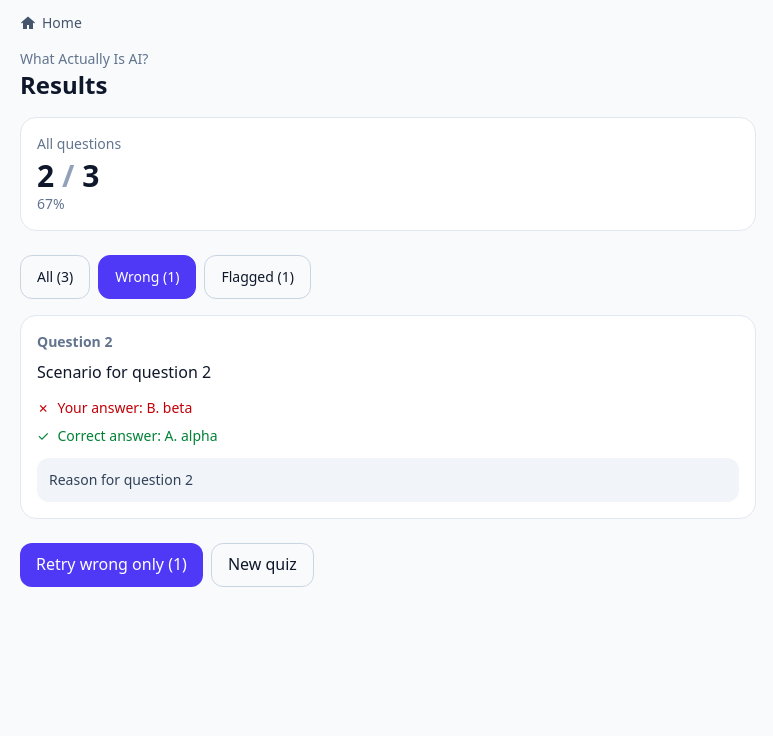
it: ResultsScreen › filters by Wrong, All and Flagged
The width and height of the screenshot is (773, 736).
expect the text "Scenario for question 2" is shown: met, box [37, 361, 211, 383]
expect the text "Question 1 " is not shown: met
Click the tab "All (3)" at x=55, y=277, box [20, 255, 90, 299]
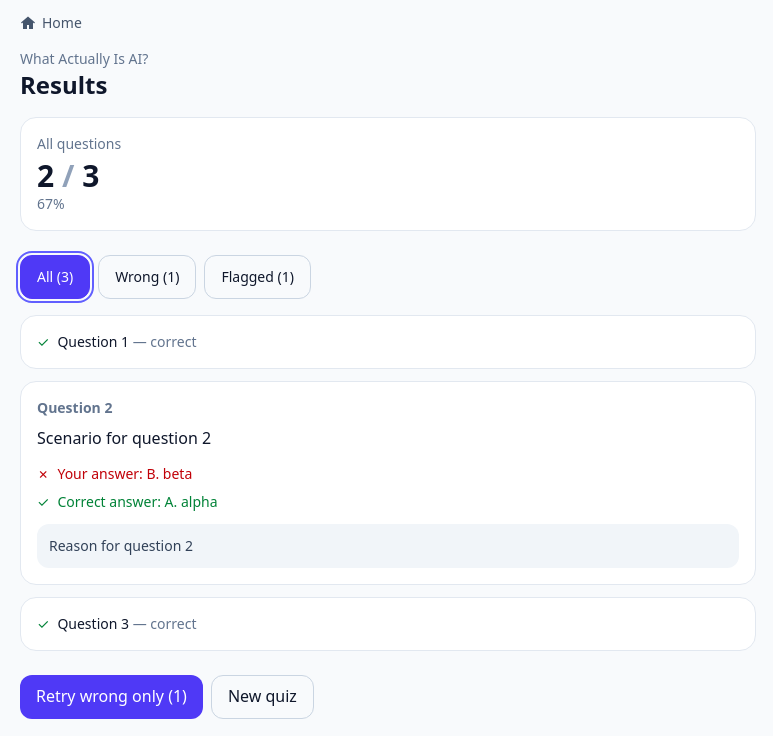
expect the text "Question 1" is shown: met, box [57, 332, 129, 351]
expect the text "Question 3" is shown: met, box [57, 614, 129, 633]
Click the tab "Flagged (1)" at x=258, y=277, box [204, 255, 311, 299]
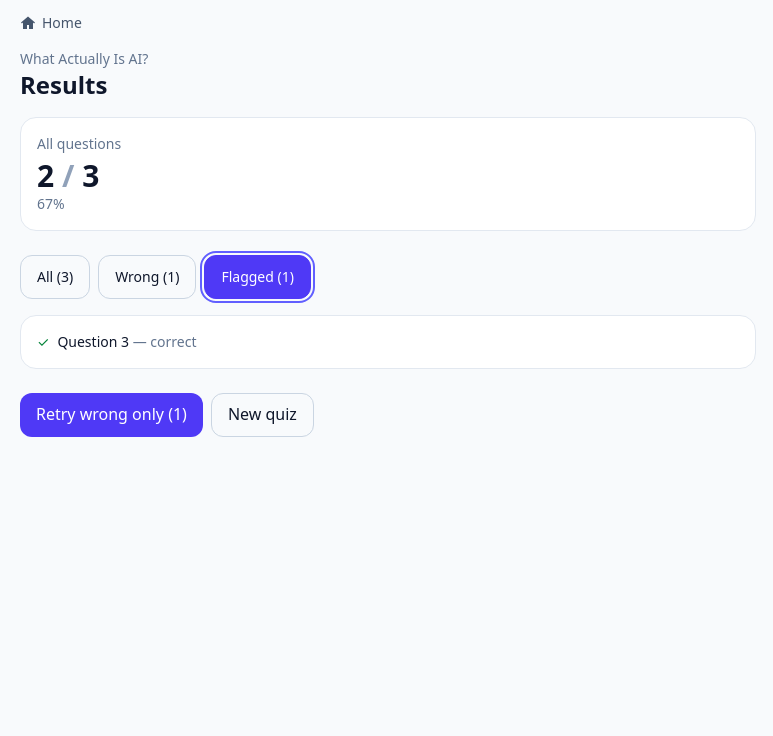
expect the text "Question 3" is shown: met, box [57, 332, 129, 351]
expect the text "Scenario for question 2" is gone: met
